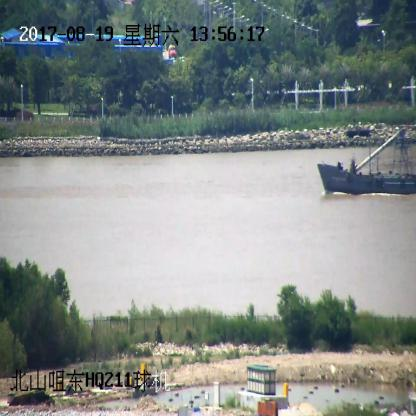Fishing Boat: (318, 125, 415, 195)
